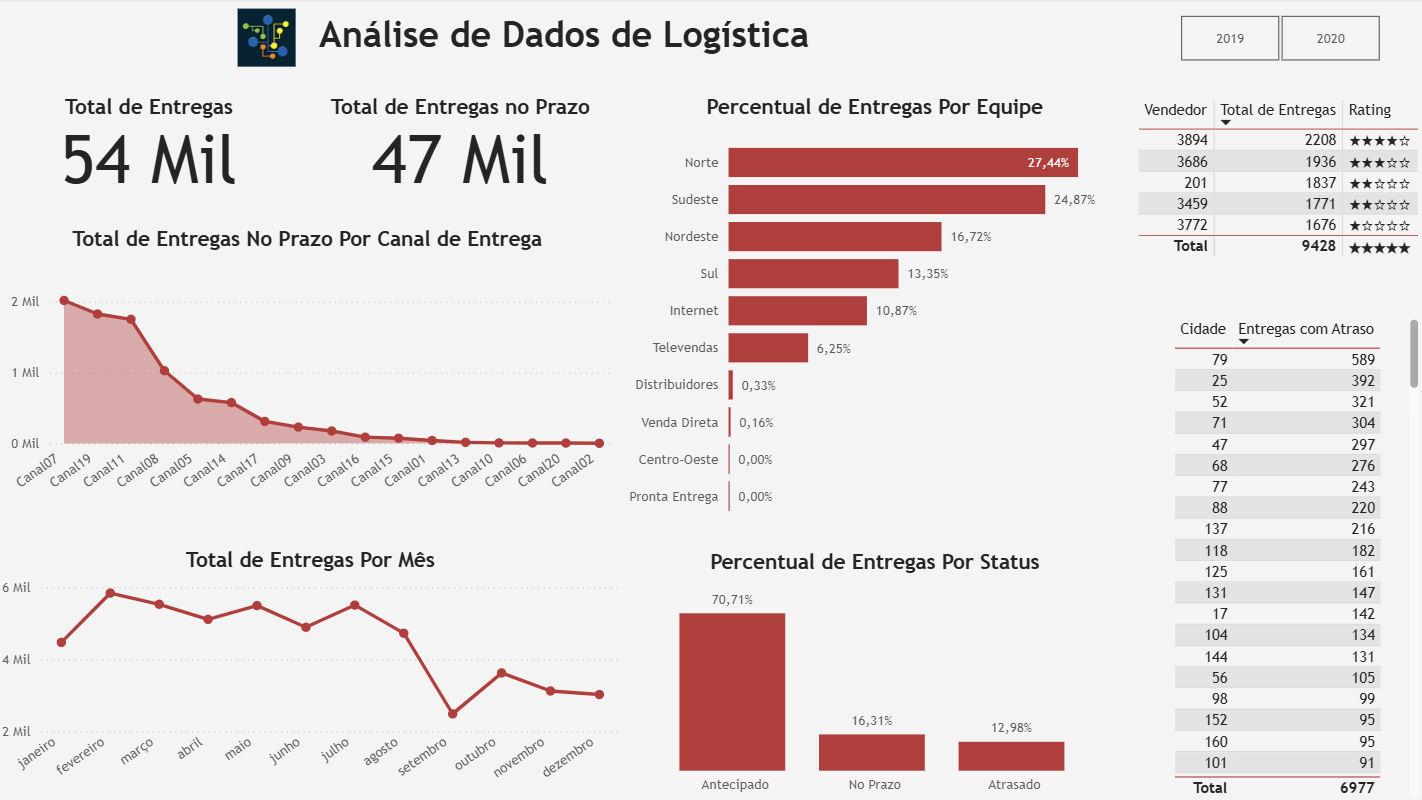

This screenshot's page, from the dashboard's own definition file:
{"tool":"powerbi","page":{"name":"Dashboard","canvas":[1280,720],"ordinal":0},"visuals":[{"type":"areaChart","title":"Total de Entregas No Prazo Por Canal de Entrega","fields":{"Category":["Logistica.Canal_Entrega"],"Y":["Medidas.TotalEntregas"]},"box":[0,204.3,557.3,255.7],"z":0},{"type":"clusteredBarChart","title":"Percentual de Entregas Por Equipe","fields":{"Category":["Logistica.Equipe_Entrega"],"Y":["Medidas.TotalEntregas"]},"box":[557.3,86.2,460,391.9],"z":1000},{"type":"lineChart","title":"Total de Entregas Por Mês","fields":{"Category":["Logistica.Data_Entrega_Realizada.Variation.Hierarquia de datas.Mês"],"Y":["Medidas.TotalEntregas"]},"box":[0,492,562.9,227.9],"z":2000},{"type":"tableEx","fields":{"Values":["Logistica.ID_Vendedor","Medidas.TotalEntregas","Medidas.Classificação por estrelas TotalEntregas"]},"box":[1017.3,86.2,264.1,196],"z":3000},{"type":"columnChart","title":"Percentual de Entregas Por Status","fields":{"Category":["Logistica.Status_Entrega"],"Y":["Medidas.TotalEntregas"]},"box":[557.3,493.4,460,226.5],"z":4000},{"type":"tableEx","fields":{"Values":["Logistica.ID_Cidade","Medidas.TotalEntregas"]},"box":[1049.9,282.2,229.5,439],"z":5000},{"type":"slicer","fields":{"Values":["Logistica.Data_Entrega_Realizada.Variation.Hierarquia de datas.Ano"]},"box":[1034.8,8.8,228.3,53.9],"z":6000},{"type":"card","title":"Total de Entregas","fields":{"Values":["Medidas.TotalEntregas"]},"box":[0,86.2,273.8,86.2],"z":7000},{"type":"textbox","box":[0,8.8,1017.3,53.9],"z":8000},{"type":"card","title":"Total de Entregas no Prazo","fields":{"Values":["Medidas.TotalEntregaPrazo"]},"box":[273.8,86.2,283.5,86.2],"z":9000},{"type":"image","box":[211.6,4.1,61.8,61.8],"z":10000}]}

Visuals, with their boxes in screenshot pixels (x1, y1, x2, y2), scaled from the page's 1280x720 canvas onto the 1422x800 screenshot:
"Total de Entregas No Prazo Por Canal de Entrega" areaChart: (left=0, top=227, right=619, bottom=511)
"Percentual de Entregas Por Equipe" clusteredBarChart: (left=619, top=96, right=1130, bottom=531)
"Total de Entregas Por Mês" lineChart: (left=0, top=547, right=625, bottom=799)
tableEx - Logistica.ID_Vendedor x Medidas.TotalEntregas: (left=1130, top=96, right=1421, bottom=314)
"Percentual de Entregas Por Status" columnChart: (left=619, top=548, right=1130, bottom=799)
tableEx - Logistica.ID_Cidade x Medidas.TotalEntregas: (left=1166, top=314, right=1421, bottom=799)
slicer - Logistica.Data_Entrega_Realizada.Variation.Hierarquia de datas.Ano: (left=1150, top=10, right=1403, bottom=70)
"Total de Entregas" card: (left=0, top=96, right=304, bottom=192)
textbox: (left=0, top=10, right=1130, bottom=70)
"Total de Entregas no Prazo" card: (left=304, top=96, right=619, bottom=192)
image: (left=235, top=5, right=304, bottom=73)
